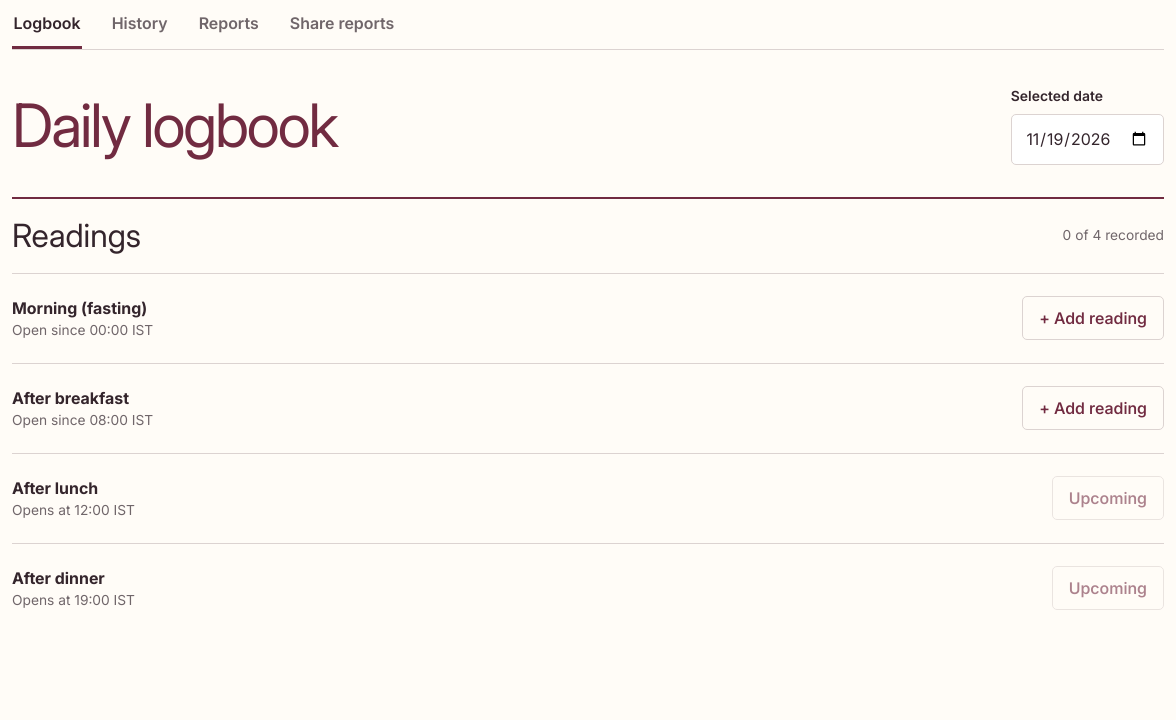
Scenario: reading form › closes the form without saving when cancelled
This screenshot has width=1176, height=720.
Expected: the heading "Readings" is shown, [12,219,141,253]
Click the button "+ Add reading" in the row of "00:00 IST".
click(1093, 318)  # box [1022,296,1164,340]
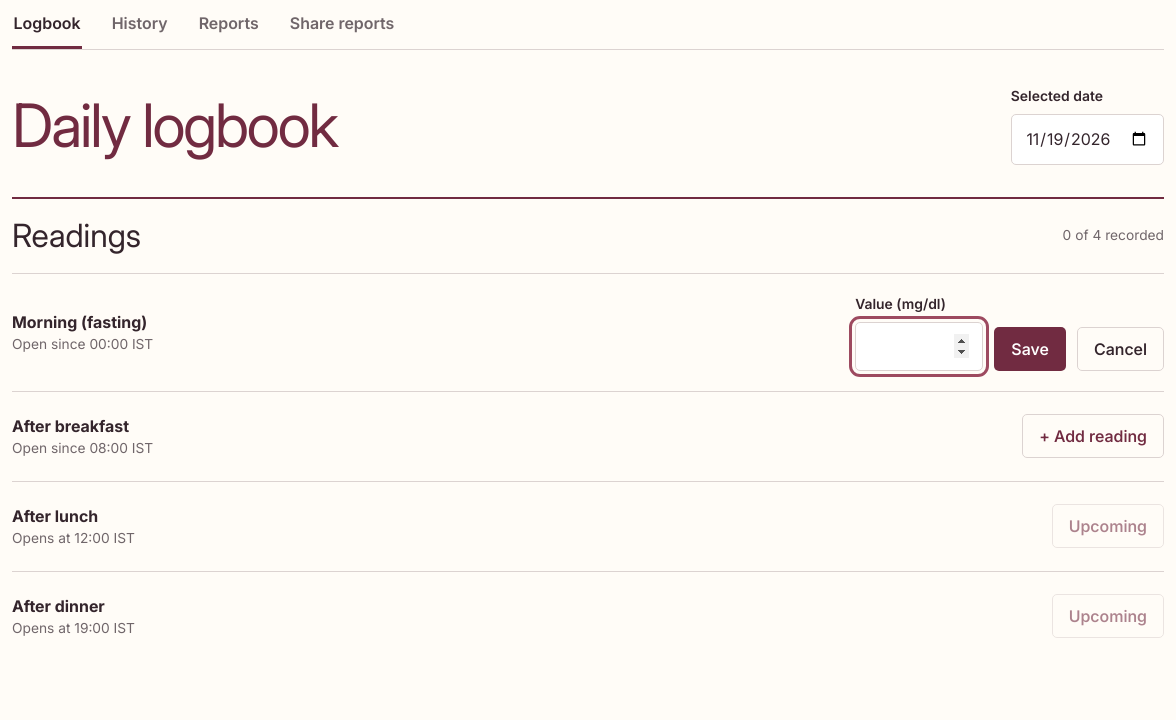
Type "95" into the number field labelled "Value (mg/dl)".
click(919, 346); type("95")  # box [855,322,983,371]
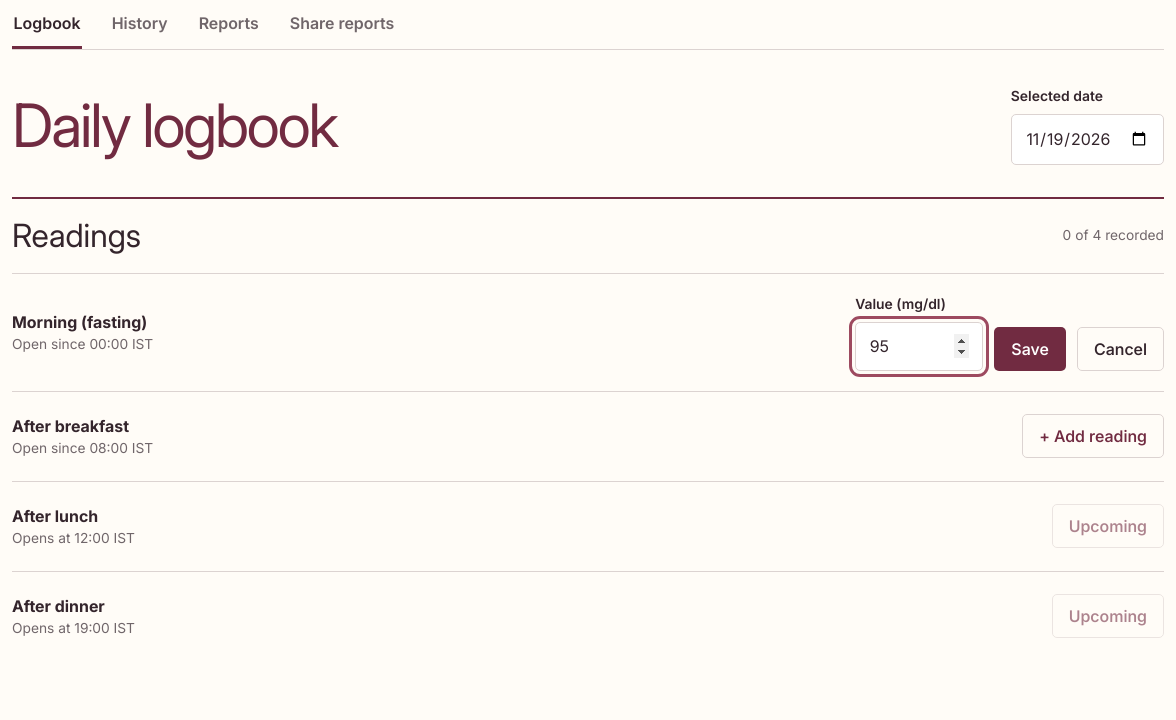
Click the button "Cancel".
click(1120, 349)  # box [1077,327,1164,371]
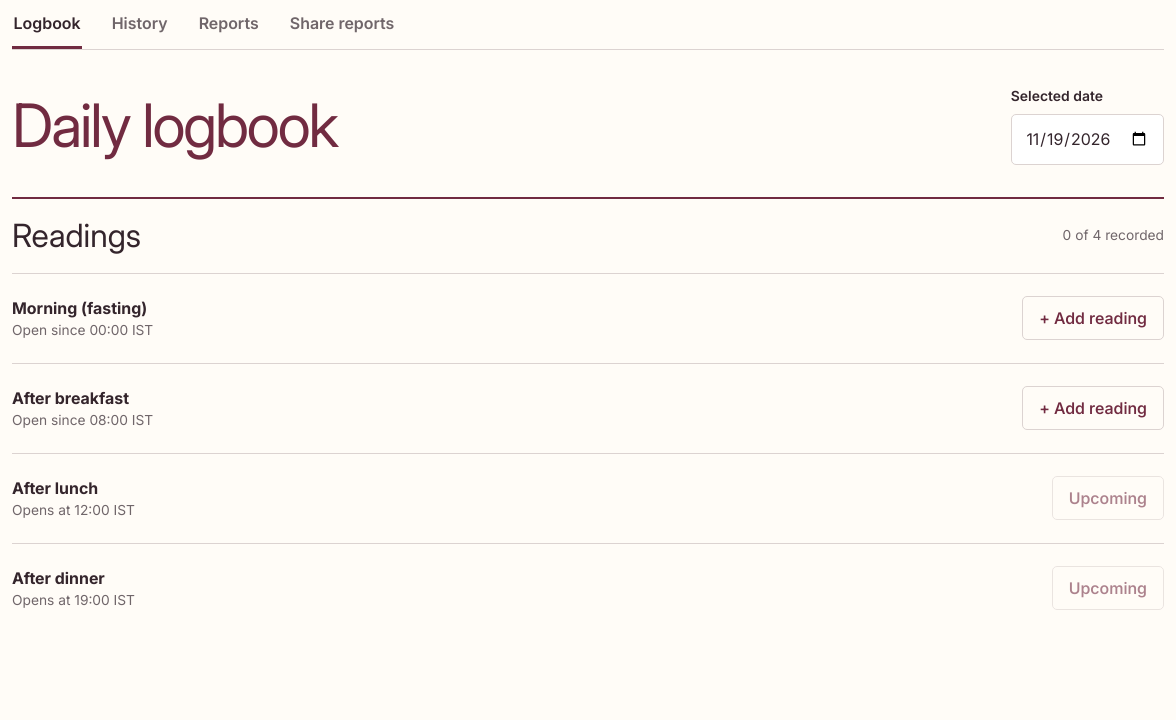
Result: the label labelled "Value (mg/dl)" is gone
